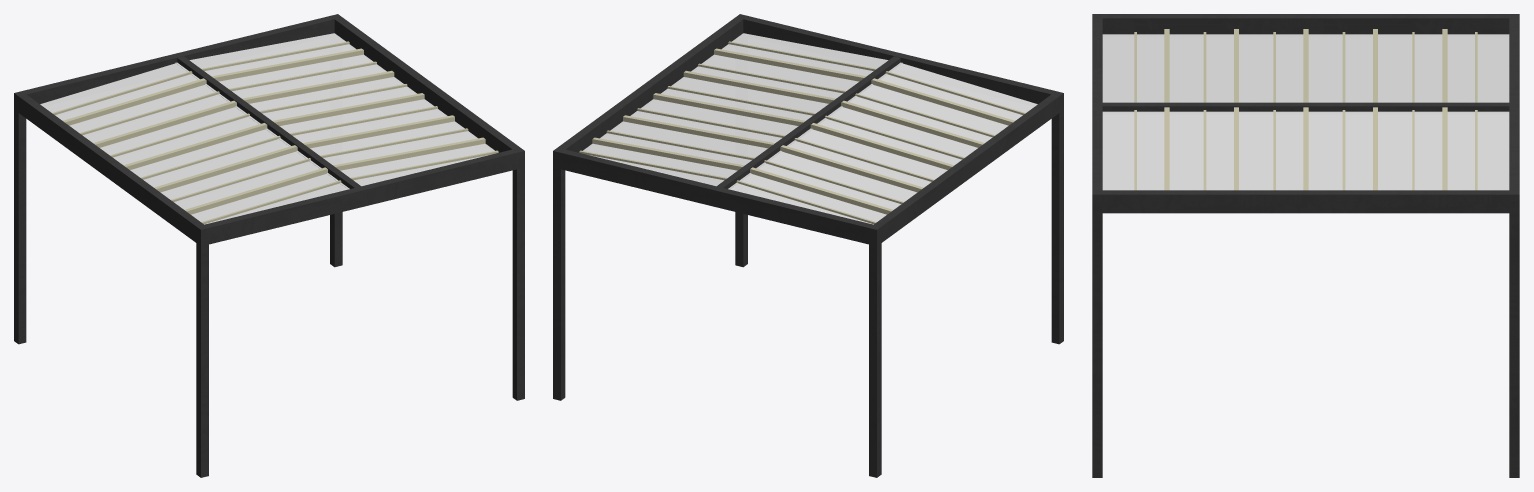
Rendered from hyr-double_h30-w40-l40_matblack.fbx.
3 renders of one model, left to right at view 1: azimuth 30°, elevation 25°; view 2: azimuth 150°, elevation 25°; view 3: azimuth 270°, elevation 25°, orthographic. The views are drawn at different scales.
Visible parts, largest first — view 1: hyr-double_h30-w40-l40_matblack; view 2: hyr-double_h30-w40-l40_matblack; view 3: hyr-double_h30-w40-l40_matblack.
Part boxes in pixels (left/top/right/bottom): hyr-double_h30-w40-l40_matblack: left=14, top=14, right=524, bottom=477; hyr-double_h30-w40-l40_matblack: left=553, top=14, right=1063, bottom=477; hyr-double_h30-w40-l40_matblack: left=1092, top=14, right=1519, bottom=477.
Bounding box in the file's own units: 410 × 300 × 410.
Materials: 3 (2 with a texture image).
